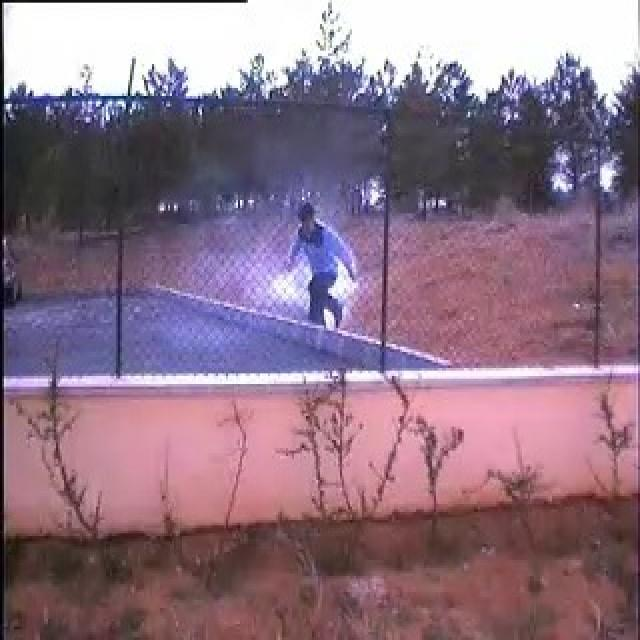smoke: (234, 251, 310, 324)
